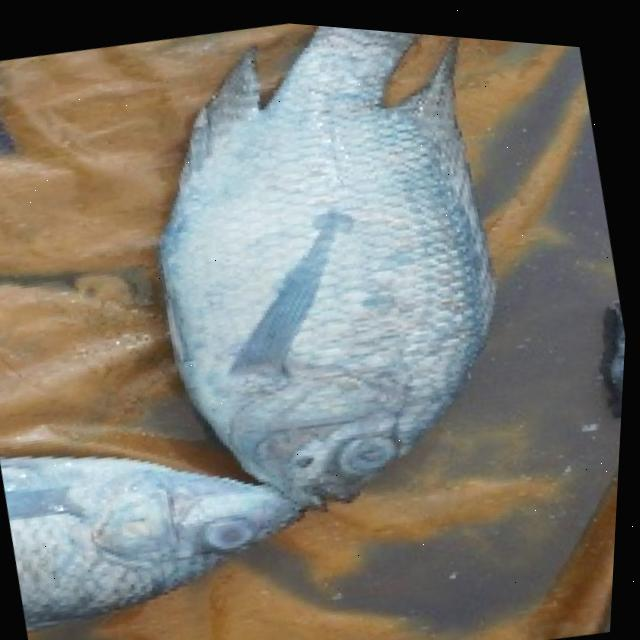Non-Fresh: (135, 46, 537, 543), (0, 415, 277, 640)
